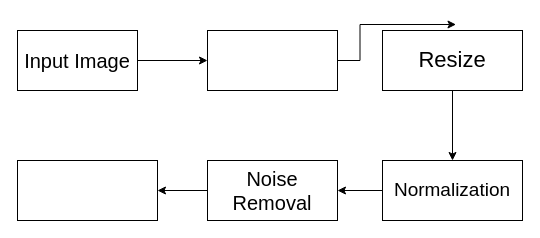
The diagram is 540 pixels wide and 238 high, and some of its shapes have lost their labels. The shapes that lost their labels are listed below. From the top down, each one's centre as x and y in pixels, then its label:
At point (272, 60): "Gray Scale Conversion".
At point (87, 190): "Preprocessed Image".
